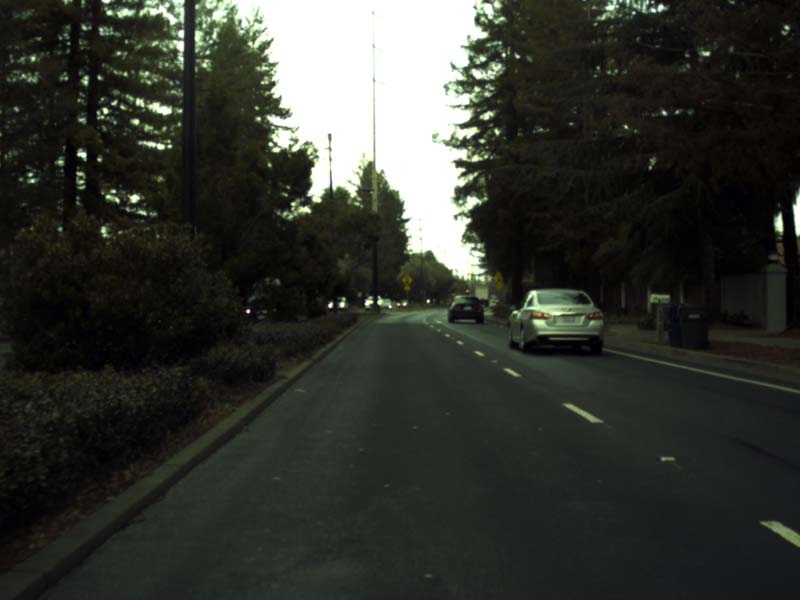Red: (465, 288, 469, 296), (451, 289, 454, 298)
